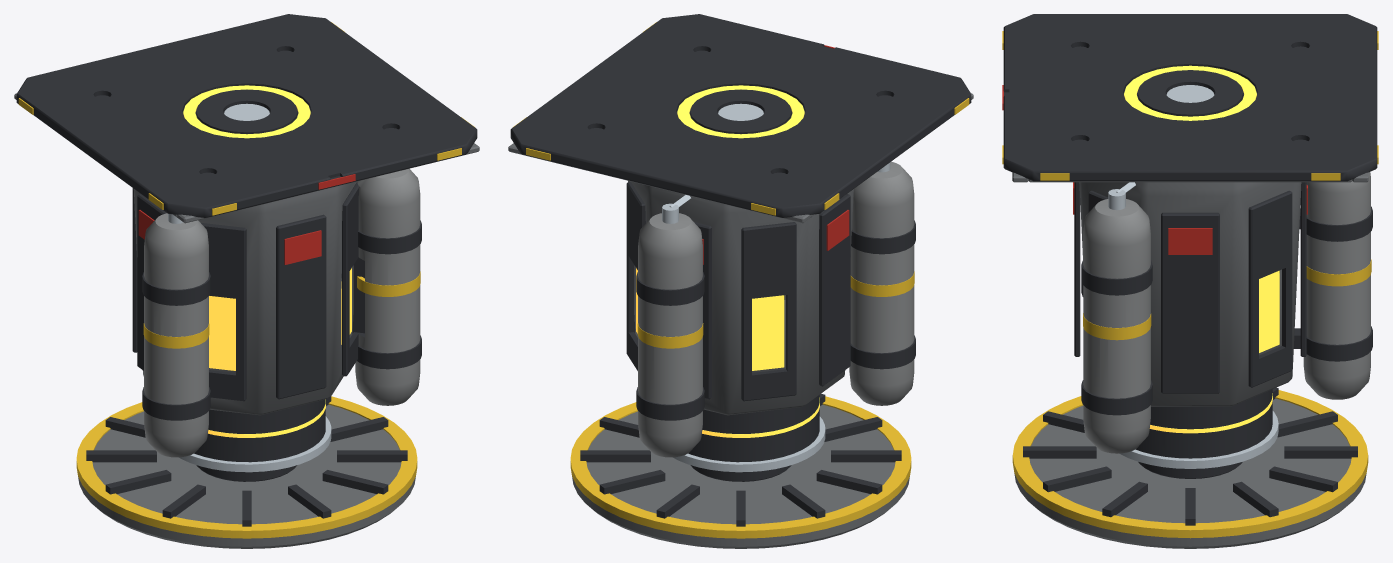
File: R4M_JumpDrive.glb
The picture shows the model from 3 angles, left to right: view 1: azimuth 30°, elevation 25°; view 2: azimuth 150°, elevation 25°; view 3: azimuth 270°, elevation 25°; orthographic projection. The views are drawn at different scales.
Visible parts, largest first — view 1: R4M_JumpDrive_Housing, R4M_JumpDrive_Piston; view 2: R4M_JumpDrive_Housing, R4M_JumpDrive_Piston; view 3: R4M_JumpDrive_Housing, R4M_JumpDrive_Piston.
Boxes of the visible parts, <box> form: R4M_JumpDrive_Housing: <box>14,14,479,472</box>; R4M_JumpDrive_Piston: <box>76,396,417,548</box>; R4M_JumpDrive_Housing: <box>508,14,973,472</box>; R4M_JumpDrive_Piston: <box>570,393,911,548</box>; R4M_JumpDrive_Housing: <box>1002,14,1378,468</box>; R4M_JumpDrive_Piston: <box>1012,387,1368,548</box>.
Bounding box in the file's own units: 0.5126 × 0.677 × 0.5126.
